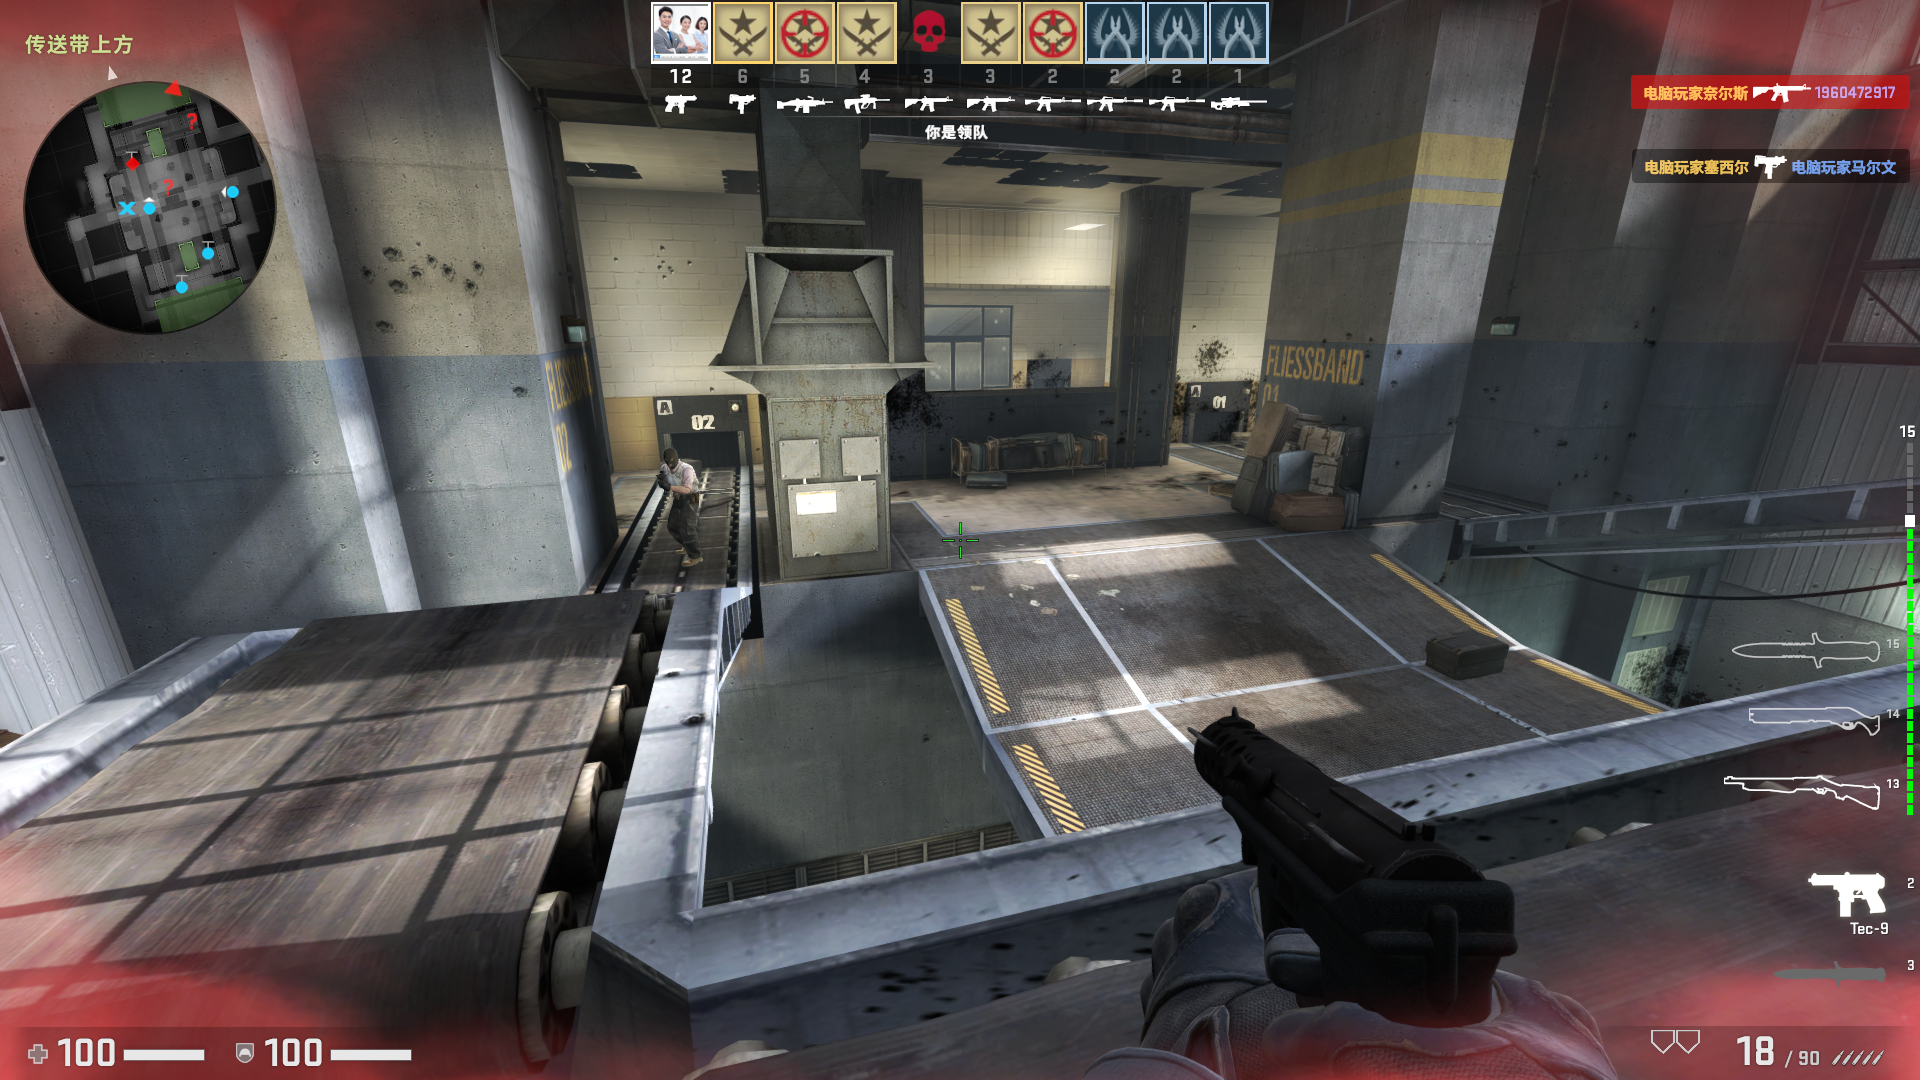person: (652, 450, 705, 574)
